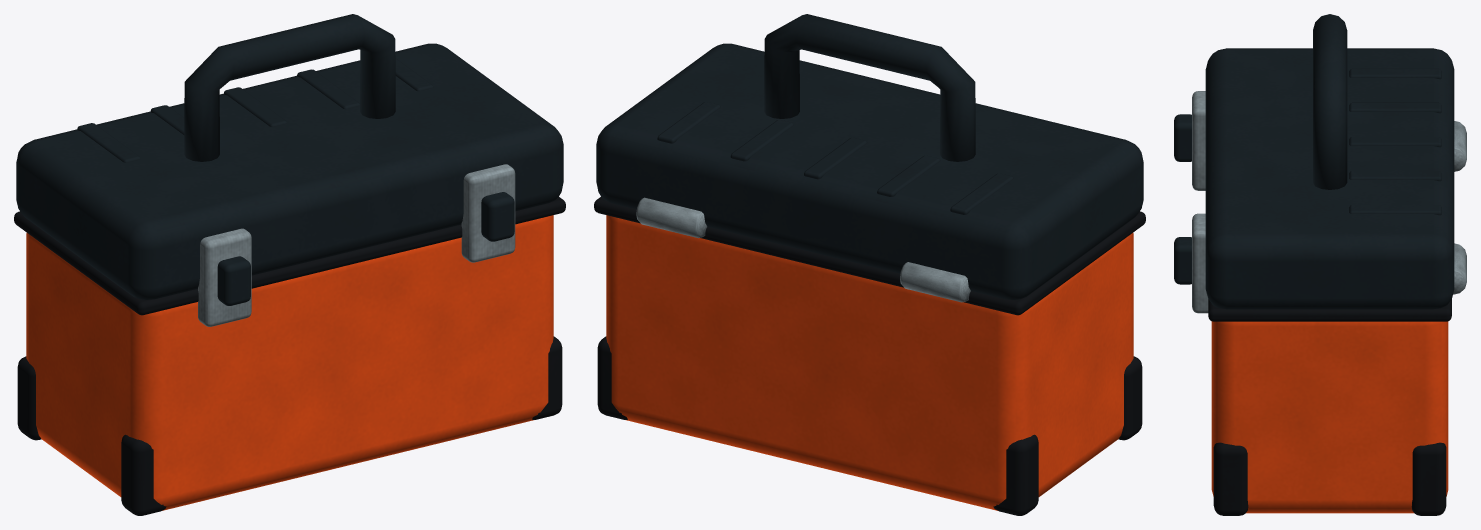
File: CSE_Toolbox.fbx
3 renders of one model, left to right at view 1: azimuth 30°, elevation 25°; view 2: azimuth 150°, elevation 25°; view 3: azimuth 270°, elevation 25°, orthographic. The views are drawn at different scales.
Visible parts, largest first — view 1: CSE_Toolbox; view 2: CSE_Toolbox; view 3: CSE_Toolbox.
Part boxes in pixels (x1,y1,x2,y2): CSE_Toolbox: [14, 14, 565, 515]; CSE_Toolbox: [594, 14, 1145, 515]; CSE_Toolbox: [1174, 14, 1466, 515].
Size of the model in its own units: 47.3 by 41.39 by 29.1.
